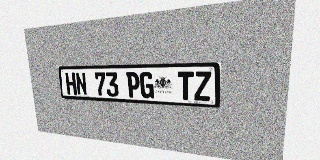3: (105, 72, 119, 97)
7: (94, 72, 107, 96)
G: (139, 72, 154, 99)
H: (65, 73, 77, 95)
N: (75, 72, 87, 95)
P: (126, 72, 140, 98)
T: (178, 71, 194, 100)
Z: (194, 71, 211, 101)
